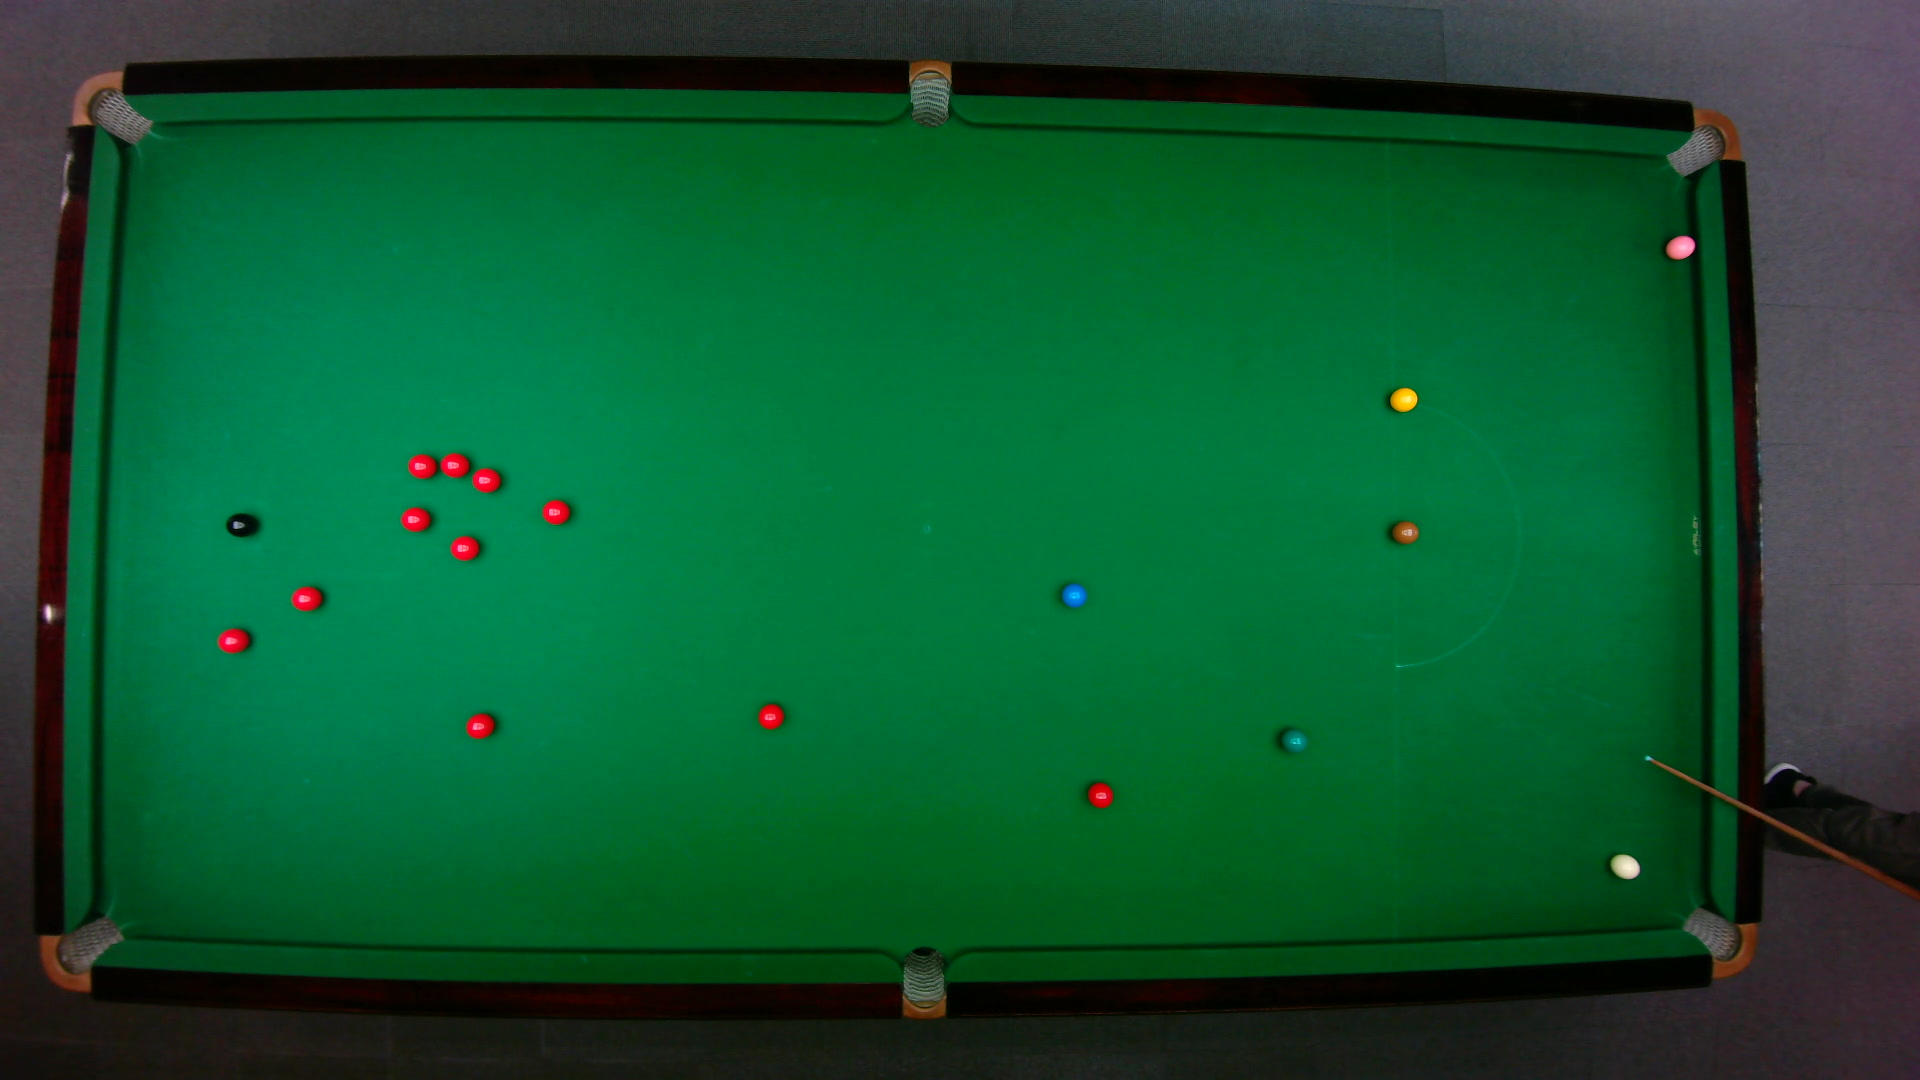bag: (38, 914, 125, 993), (69, 69, 153, 145), (1679, 905, 1758, 978), (1663, 107, 1741, 177), (901, 944, 944, 1021), (909, 57, 949, 128)
black: (223, 512, 257, 537)
blue: (1059, 582, 1087, 607)
brown: (1389, 520, 1419, 545)
cue: (1643, 750, 1919, 898)
green: (1278, 727, 1308, 752)
pink: (1663, 232, 1697, 260)
red: (215, 625, 251, 653), (289, 584, 323, 611), (469, 465, 501, 493), (398, 504, 430, 531), (448, 533, 480, 560), (439, 450, 469, 477), (464, 711, 495, 738), (756, 702, 785, 729), (541, 497, 570, 525), (1085, 781, 1114, 808), (405, 452, 436, 477)
white: (1607, 852, 1640, 880)
yellow: (1387, 385, 1418, 411)
zone: (1390, 401, 1520, 669)
